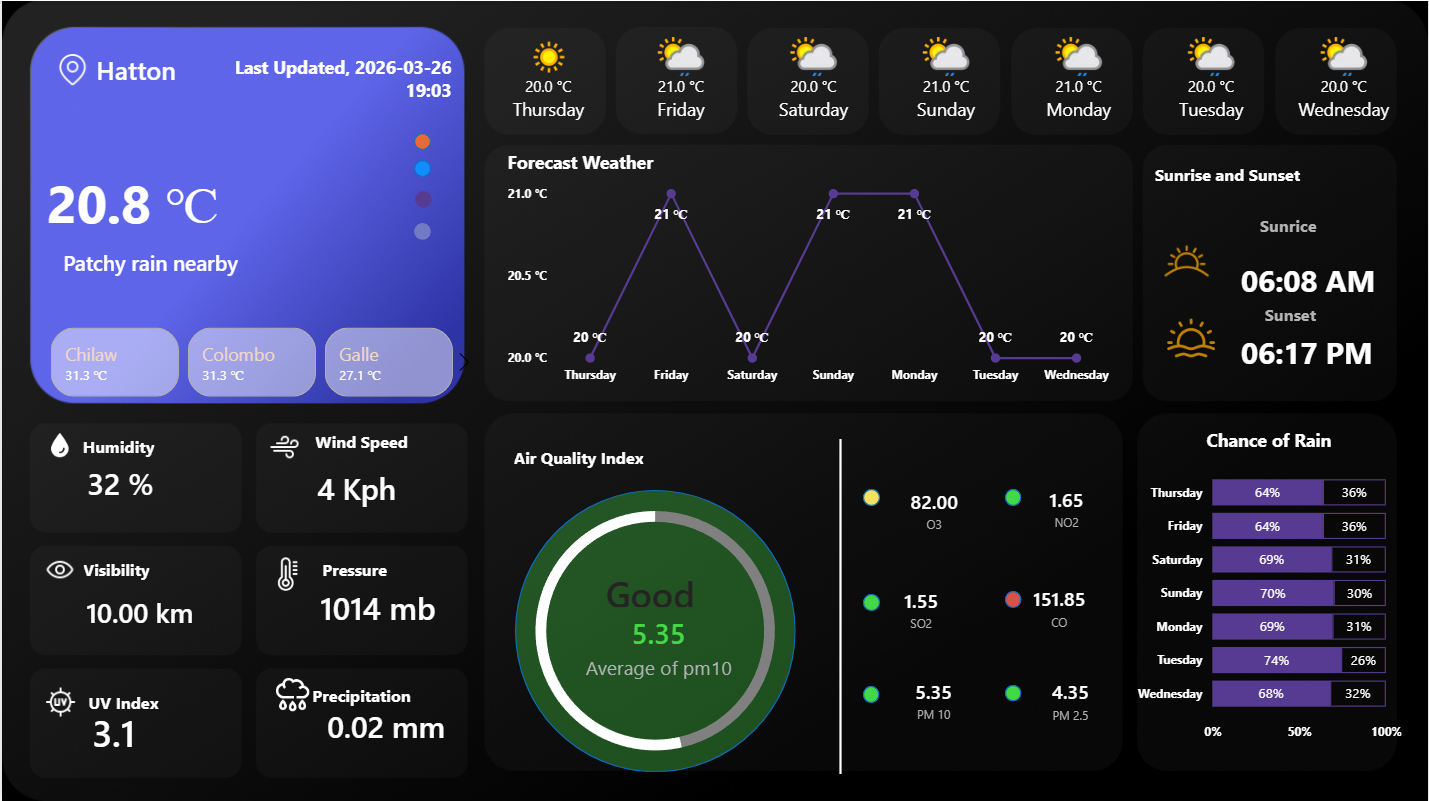

The page's visual inventory and layout, read from the dashboard file:
{"tool":"powerbi","page":{"name":"Purple","canvas":[1280,720],"ordinal":2},"visuals":[{"type":"advancedSlicerVisual","fields":{"Values":["Currrent.City"]},"box":[19,288,411,72],"z":0},{"type":"shape","box":[40.4,105,232.5,149.9],"z":1000},{"type":"image","box":[49,39,28,45],"z":2000},{"type":"shape","box":[179.5,38.6,224,61.8],"z":3000},{"type":"cardVisual","fields":{"Data":["Min(Master_Table.condition_icon)"]},"box":[26,101,161,84],"z":4000},{"type":"image","box":[26.3,496.2,52.6,28.2],"z":5000},{"type":"image","box":[40.4,383.4,22.6,31],"z":6000},{"type":"image","box":[38.5,611.8,28.2,36.7],"z":7000},{"type":"image","box":[235.9,387.2,35.7,27.3],"z":8000},{"type":"image","box":[241.5,496.2,30.1,35.7],"z":9000},{"type":"image","box":[233.1,604.3,54.5,36.7],"z":10000},{"type":"shape","box":[260.3,370.3,125,50.7],"z":11000},{"type":"shape","box":[47,604.3,125,50.7],"z":12000},{"type":"shape","box":[40.4,484.9,125,50.7],"z":13000},{"type":"shape","box":[52.6,373.1,103.4,51.7],"z":14000},{"type":"shape","box":[253.7,484.9,125,50.7],"z":15000},{"type":"shape","box":[260.3,597.7,125,50.7],"z":16000},{"type":"cardVisual","fields":{"Data":["Min(Forcast_Hour.humidity)"]},"box":[48,394,124,74],"z":17000},{"type":"cardVisual","fields":{"Data":["Avg(Master_Table.precip_mm)"]},"box":[263,615,185.8,70.9],"z":18000},{"type":"cardVisual","fields":{"Data":["Avg(Currrent.Pressure_MB)"]},"box":[256.8,503.6,167,79.9],"z":19000},{"type":"cardVisual","fields":{"Data":["Avg(Currrent.Visibility)"]},"box":[46.7,505.4,205.6,83.5],"z":20000},{"type":"cardVisual","fields":{"Data":["Mesur.Wind_speed"]},"box":[253.7,395.7,175.7,79.9],"z":21000},{"type":"cardVisual","fields":{"Data":["Min(Forcast_Day.uv)"]},"box":[52,615,162,81],"z":22000},{"type":"shape","box":[369.9,118.5,15.3,15.3],"z":23000},{"type":"shape","box":[369.9,142.7,15.3,15.3],"z":24000},{"type":"shape","box":[370.8,170.6,15.3,15.3],"z":25000},{"type":"shape","box":[369.9,199.3,15.3,15.3],"z":26000},{"type":"cardVisual","fields":{"Data":["Min(Currrent.City)"]},"box":[56,14,189,94],"z":27000},{"type":"cardVisual","fields":{"Data":["Min(Forcast_Day.condition_text)"]},"box":[26,202,276.5,62.8],"z":28000},{"type":"shape","box":[1013.6,130.2,173.3,50.3],"z":29000},{"type":"shape","box":[1068.4,176.2,173,50],"z":30000},{"type":"shape","box":[1070.5,255.4,173,51.1],"z":31000},{"type":"image","box":[1036.1,281.4,63.6,42.7],"z":32000},{"type":"image","box":[1026.7,207.4,73,52.1],"z":33000},{"type":"shape","box":[1112,219.1,129.4,61.8],"z":34000},{"type":"shape","box":[1112,287.7,129.4,57],"z":35000},{"type":"cardVisual","fields":{"Data":["Avg(Currrent.no2)"]},"box":[885.5,409,141,91.5],"z":36000},{"type":"cardVisual","fields":{"Data":["Avg(Currrent.so2)"]},"box":[757.5,498,135.5,95.5],"z":37000},{"type":"cardVisual","fields":{"Data":["Avg(Currrent.pm2_5)"]},"box":[885.5,579.5,148.5,98.5],"z":38000},{"type":"cardVisual","fields":{"Data":["Avg(Currrent.o3)"]},"box":[769,403,135,107],"z":39000},{"type":"cardVisual","fields":{"Data":["Avg(Currrent.co)"]},"box":[885.4,495.7,128,98.2],"z":40000},{"type":"cardVisual","fields":{"Data":["Avg(Currrent.pm10)"]},"box":[765,581,143,93],"z":41000},{"type":"shape","box":[773.2,438.4,15.2,15.2],"z":42000},{"type":"shape","box":[773.2,532.3,15.2,15.2],"z":43000},{"type":"shape","box":[900.6,438.4,14.6,15.2],"z":44000},{"type":"shape","box":[900.6,529.9,14.6,15.2],"z":45000},{"type":"shape","box":[900.6,614,14.6,14.6],"z":46000},{"type":"shape","box":[773.2,615.2,14.6,15.2],"z":47000},{"type":"shape","box":[724.5,393.2,56.6,300.7],"z":48000},{"type":"advancedSlicerVisual","fields":{"Values":["Forcast_Day.Day_Name"]},"box":[430,14.4,837.6,111.3],"z":49000},{"type":"lineChart","title":"Forecast Weather","fields":{"Y":["Avg(Forcast_Day.avgtemp_c)"],"Category":["Forcast_Day.Day_Name"]},"box":[448.9,133.8,553.9,220],"z":50000},{"type":"hundredPercentStackedBarChart","title":"Chance of Rain","fields":{"Category":["Forcast_Day.Day_Name"],"Y":["CountNonNull(Forcast_Hour.chance_of_rain)","Currrent.Left_value_Rain"]},"box":[1013.6,383.3,247.8,290.9],"z":51000},{"type":"shape","box":[448.6,383.8,137.9,50.4],"z":51001},{"type":"shape","box":[460.7,438.7,252,253.3],"z":51002},{"type":"donutChart","fields":{"Y":["Avg(Currrent.o3)","Mesur.Left_value_PM10"]},"box":[447.3,415.3,278.7,299.3],"z":51003},{"type":"cardVisual","title":"Unhealthy For SEnsitive O3","fields":{"Data":["Avg(Currrent.pm10)"]},"box":[408,459.4,364.9,239.3],"z":51004},{"type":"cardVisual","fields":{"Data":["Currrent.AQI Status Text"]},"box":[444.7,498.8,276,62.3],"z":51005}]}

Visuals, with their boxes in screenshot pixels (x1, y1, x2, y2), scaled from the page's 1280x720 canvas onto the 1429x801 screenshot:
advancedSlicerVisual - Currrent.City: detection(21, 320, 480, 400)
shape: detection(45, 117, 305, 284)
image: detection(55, 43, 86, 93)
shape: detection(200, 43, 450, 112)
cardVisual - Min(Master_Table.condition_icon): detection(29, 112, 209, 206)
image: detection(29, 552, 88, 583)
image: detection(45, 427, 70, 461)
image: detection(43, 681, 74, 721)
image: detection(263, 431, 303, 461)
image: detection(270, 552, 303, 592)
image: detection(260, 672, 321, 713)
shape: detection(291, 412, 430, 468)
shape: detection(52, 672, 192, 729)
shape: detection(45, 539, 185, 596)
shape: detection(59, 415, 174, 473)
shape: detection(283, 539, 423, 596)
shape: detection(291, 665, 430, 721)
cardVisual - Min(Forcast_Hour.humidity): detection(54, 438, 192, 521)
cardVisual - Avg(Master_Table.precip_mm): detection(294, 684, 501, 763)
cardVisual - Avg(Currrent.Pressure_MB): detection(287, 560, 473, 649)
cardVisual - Avg(Currrent.Visibility): detection(52, 562, 282, 655)
cardVisual - Mesur.Wind_speed: detection(283, 440, 479, 529)
cardVisual - Min(Forcast_Day.uv): detection(58, 684, 239, 774)
shape: detection(413, 132, 430, 149)
shape: detection(413, 159, 430, 176)
shape: detection(414, 190, 431, 207)
shape: detection(413, 222, 430, 239)
cardVisual - Min(Currrent.City): detection(63, 16, 274, 120)
cardVisual - Min(Forcast_Day.condition_text): detection(29, 225, 338, 295)
shape: detection(1132, 145, 1325, 201)
shape: detection(1193, 196, 1386, 252)
shape: detection(1195, 284, 1388, 341)
image: detection(1157, 313, 1228, 361)
image: detection(1146, 231, 1228, 289)
shape: detection(1241, 244, 1386, 313)
shape: detection(1241, 320, 1386, 383)
cardVisual - Avg(Currrent.no2): detection(989, 455, 1146, 557)
cardVisual - Avg(Currrent.so2): detection(846, 554, 997, 660)
cardVisual - Avg(Currrent.pm2_5): detection(989, 645, 1154, 754)
cardVisual - Avg(Currrent.o3): detection(859, 448, 1009, 567)
cardVisual - Avg(Currrent.co): detection(988, 551, 1131, 661)
cardVisual - Avg(Currrent.pm10): detection(854, 646, 1014, 750)
shape: detection(863, 488, 880, 505)
shape: detection(863, 592, 880, 609)
shape: detection(1005, 488, 1022, 505)
shape: detection(1005, 590, 1022, 606)
shape: detection(1005, 683, 1022, 699)
shape: detection(863, 684, 880, 701)
shape: detection(809, 437, 872, 772)
advancedSlicerVisual - Forcast_Day.Day_Name: detection(480, 16, 1415, 140)
"Forecast Weather" lineChart: detection(501, 149, 1120, 394)
"Chance of Rain" hundredPercentStackedBarChart: detection(1132, 426, 1408, 750)
shape: detection(501, 427, 655, 483)
shape: detection(514, 488, 796, 770)
donutChart - Avg(Currrent.o3) x Mesur.Left_value_PM10: detection(499, 462, 811, 795)
"Unhealthy For SEnsitive O3" cardVisual: detection(455, 511, 863, 777)
cardVisual - Currrent.AQI Status Text: detection(496, 555, 805, 624)
